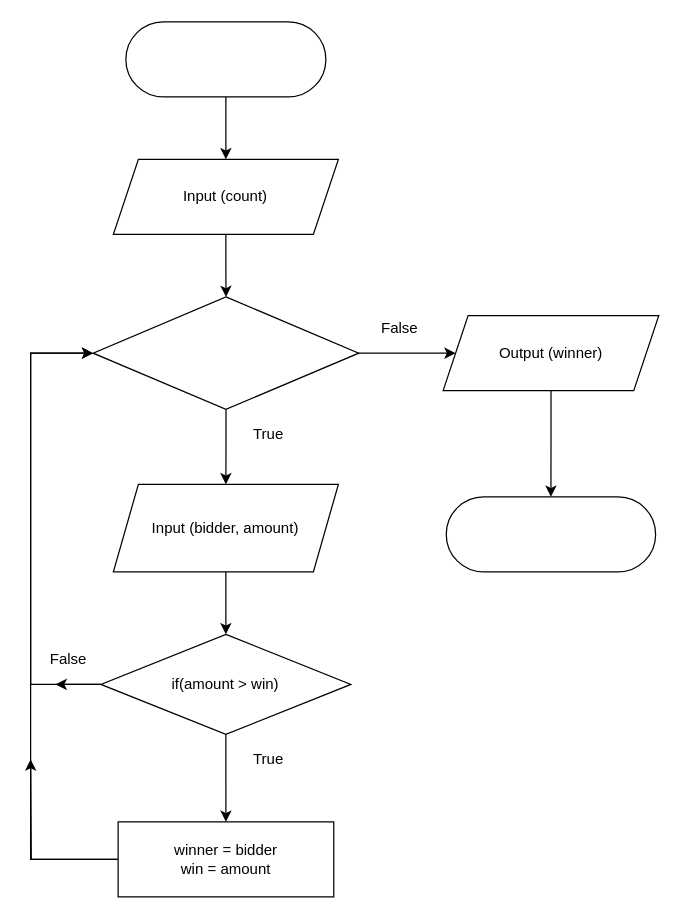
This 681x919 diagram has some shape labels left out. The shapes that lost their labels are listed below. From the top down, each one's box as (x1, y1, x2, y2) in pixels, then its label:
(125, 21, 326, 97): Start
(92, 296, 359, 409): for(i = 0; i < count; i++)
(445, 496, 656, 572): End
